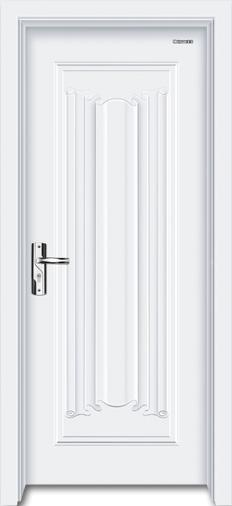door: (28, 30, 208, 485)
